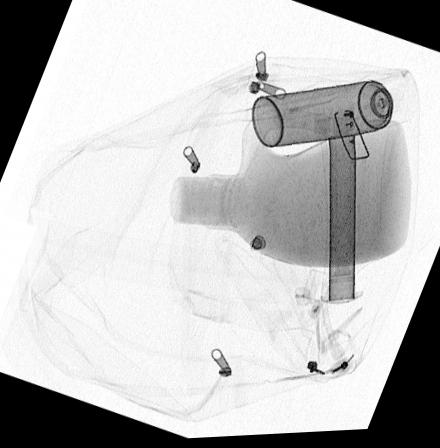Sprayer: (249, 76, 421, 151)
